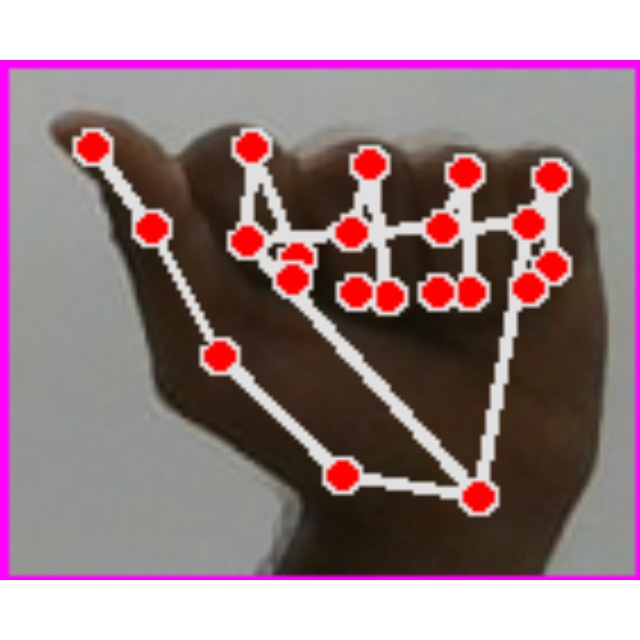A: (0, 60, 640, 580)
